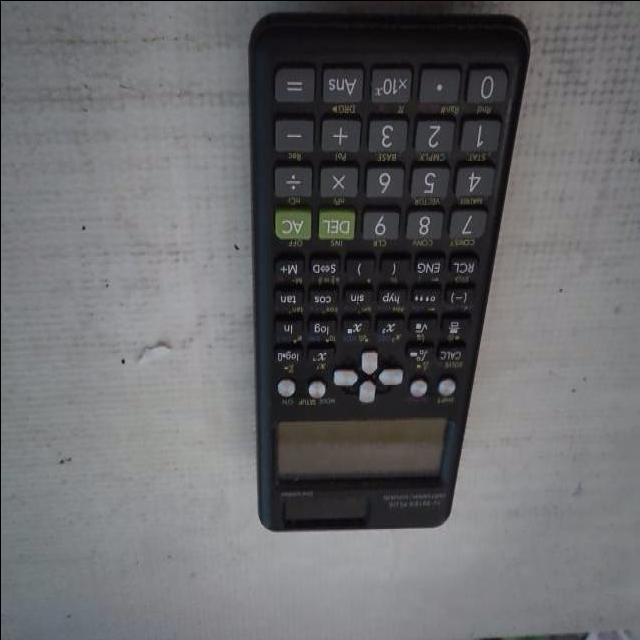Calculator: (245, 8, 532, 534)
